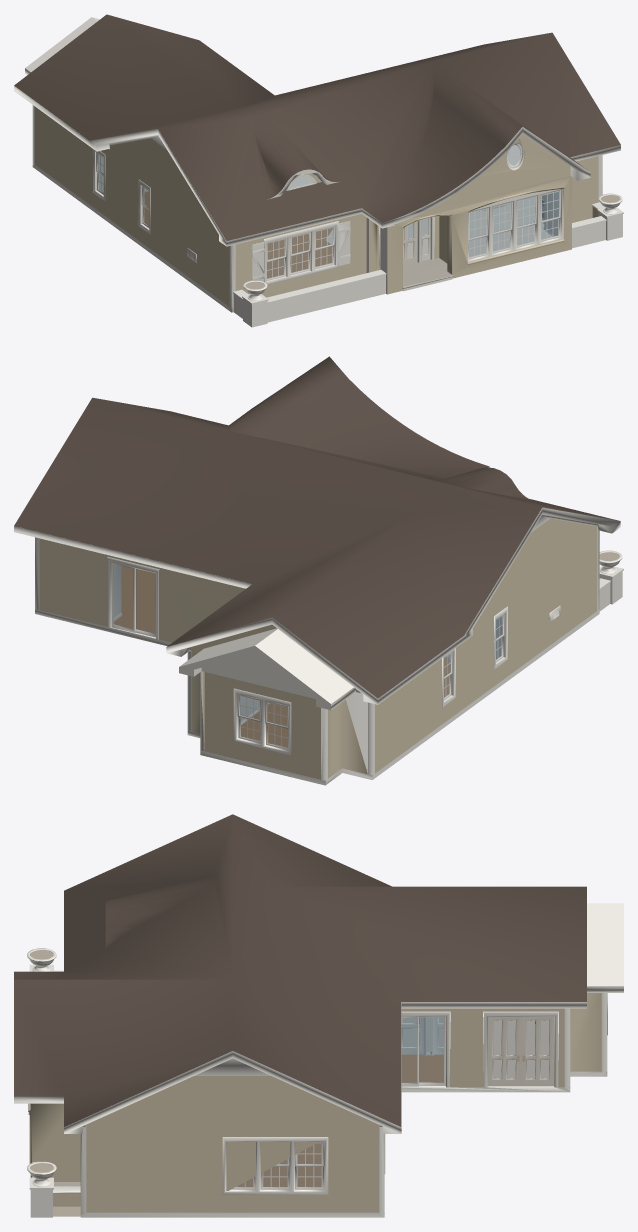
File: house.glb
3 views of the same model, one above another, from view 1: azimuth 30°, elevation 25°; view 2: azimuth 150°, elevation 25°; view 3: azimuth 270°, elevation 25° (orthographic). The views are drawn at different scales.
Visible parts, largest first — view 1: roof, siding, trim, glass, floor_tile, floor_wood, porch, ceiling, door; view 2: roof, siding, trim, glass, floor_wood, ceiling; view 3: roof, siding, trim, glass, door, floor_wood, stone.
Part boxes in pixels (x1=…): roof: x1=14, y1=14, x2=620, y2=240; siding: x1=34, y1=106, x2=598, y2=306; trim: x1=14, y1=17, x2=623, y2=327; glass: x1=97, y1=145, x2=558, y2=278; floor_tile: x1=326, y1=198, x2=551, y2=256; floor_wood: x1=144, y1=191, x2=332, y2=278; porch: x1=402, y1=258, x2=453, y2=288; ceiling: x1=268, y1=145, x2=558, y2=235; door: x1=403, y1=218, x2=429, y2=265; roof: x1=14, y1=356, x2=617, y2=698; siding: x1=39, y1=518, x2=596, y2=779; trim: x1=14, y1=467, x2=623, y2=785; glass: x1=113, y1=564, x2=502, y2=747; floor_wood: x1=114, y1=566, x2=448, y2=747; ceiling: x1=114, y1=564, x2=501, y2=773; roof: x1=14, y1=814, x2=586, y2=1126; siding: x1=29, y1=993, x2=601, y2=1212; trim: x1=14, y1=903, x2=623, y2=1217; glass: x1=237, y1=1017, x2=443, y2=1186; door: x1=487, y1=1016, x2=554, y2=1086; floor_wood: x1=237, y1=1054, x2=443, y2=1186; stone: x1=30, y1=950, x2=523, y2=1216.
Bounding box in the file's own units: 15.34 × 5.26 × 16.71.
